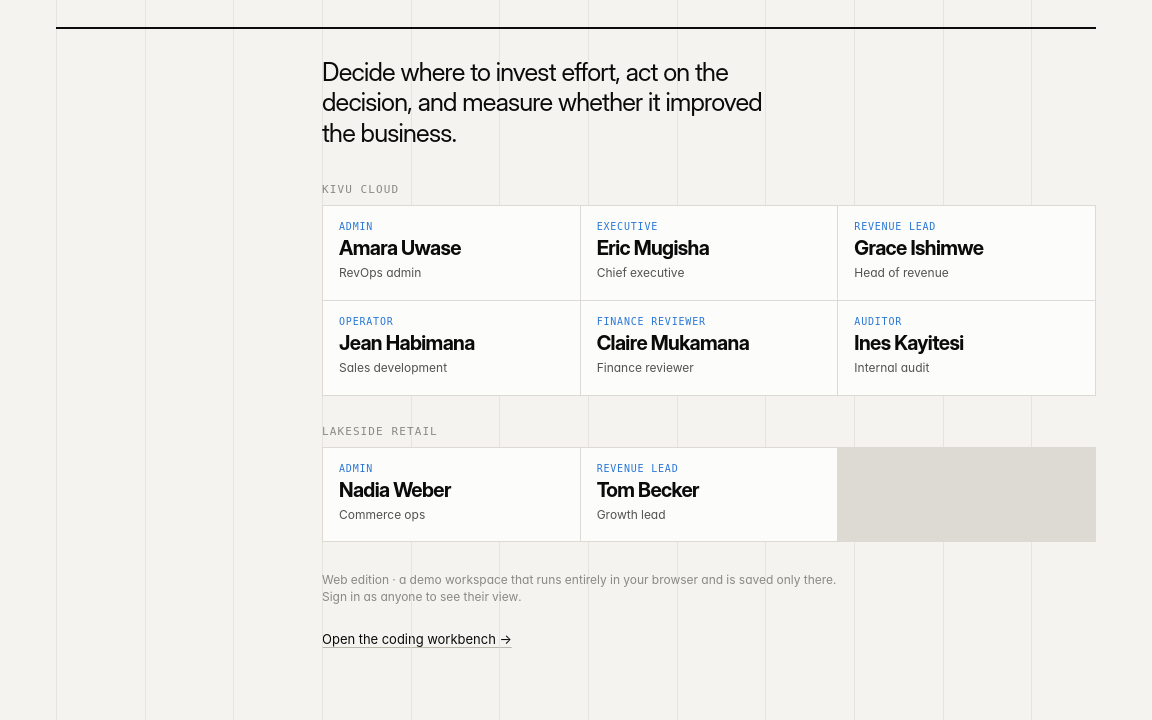
it: web edition shell › says the workspace lives in the browser, and explains the desktop-only Workbench
(page scrolled)
Check: the text "runs entirely in your browser" is shown, box [322, 572, 836, 604]
Click the button "Open the coding workbench →". click: (417, 639)
box: [322, 630, 512, 648]
(page scrolled)
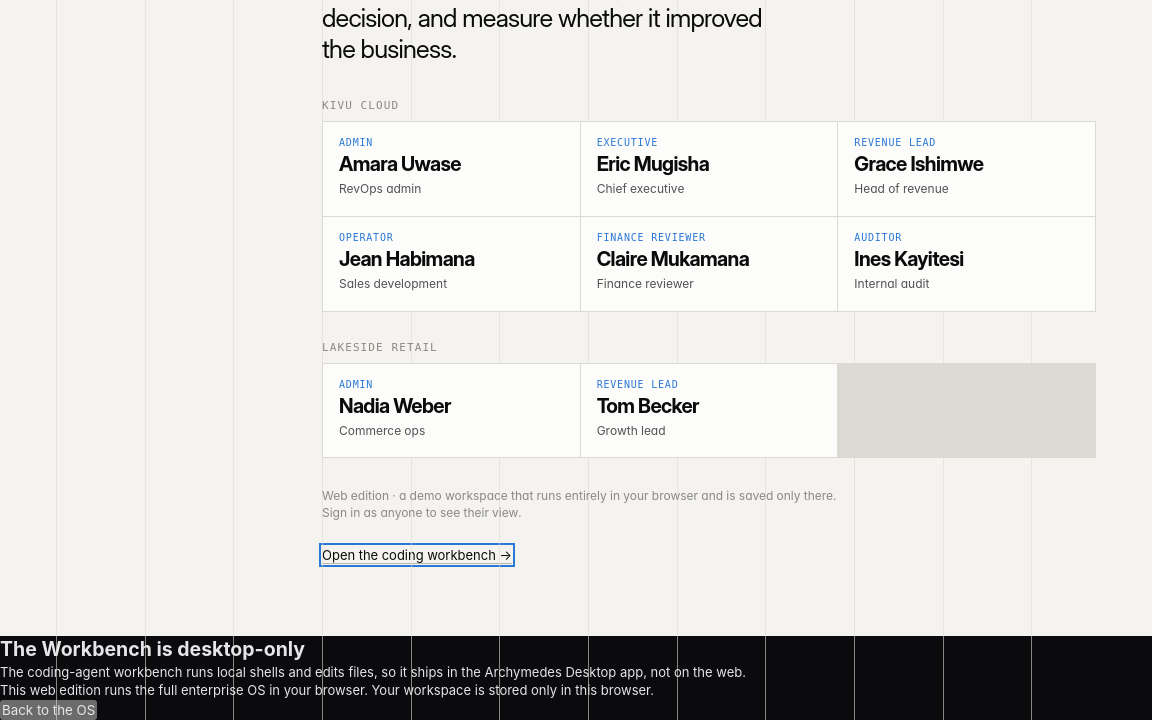
Check: the dialog "Workbench" shows "desktop-only", box [0, 637, 305, 661]
